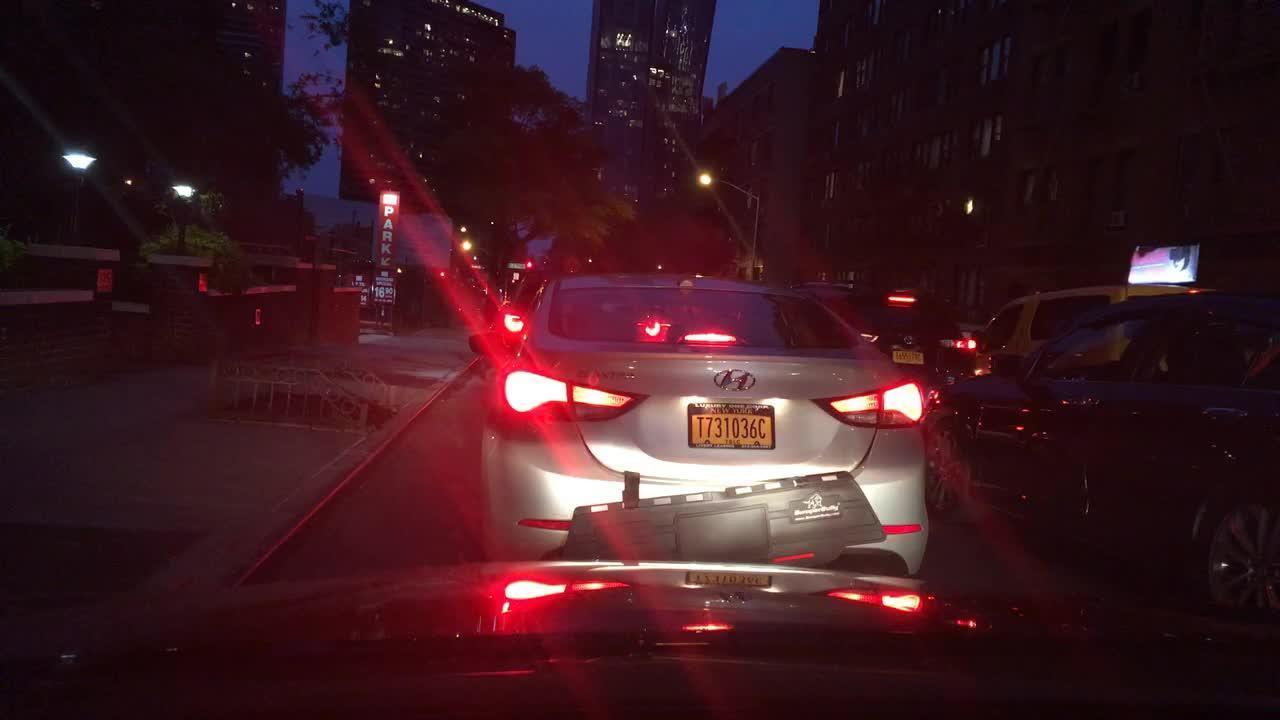Hyundai: (710, 364, 758, 394)
